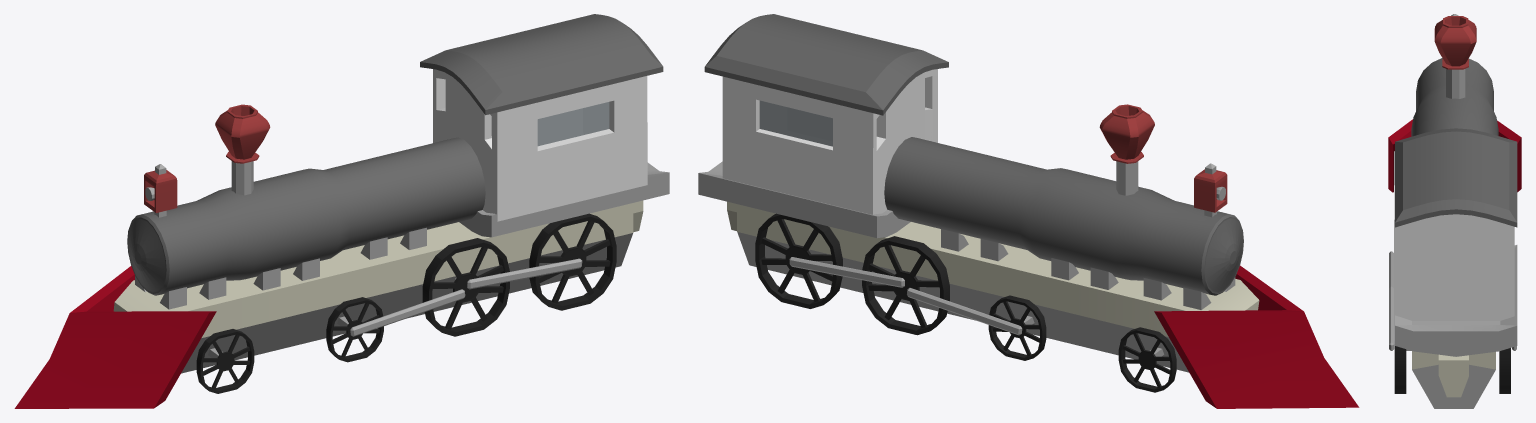
The model's file is Asset_trainOriginal.fbx.
3 renders of one model, left to right at view 1: azimuth 30°, elevation 25°; view 2: azimuth 150°, elevation 25°; view 3: azimuth 270°, elevation 25°, orthographic. The views are drawn at different scales.
Visible parts, largest first — view 1: pCube100; view 2: pCube100; view 3: pCube100.
Part boxes in pixels (x1,y1,x2,y2): pCube100: (14,14,669,408); pCube100: (698,14,1359,408); pCube100: (1388,14,1521,408).
Bounding box in the file's own units: 1666 × 628 × 330.
